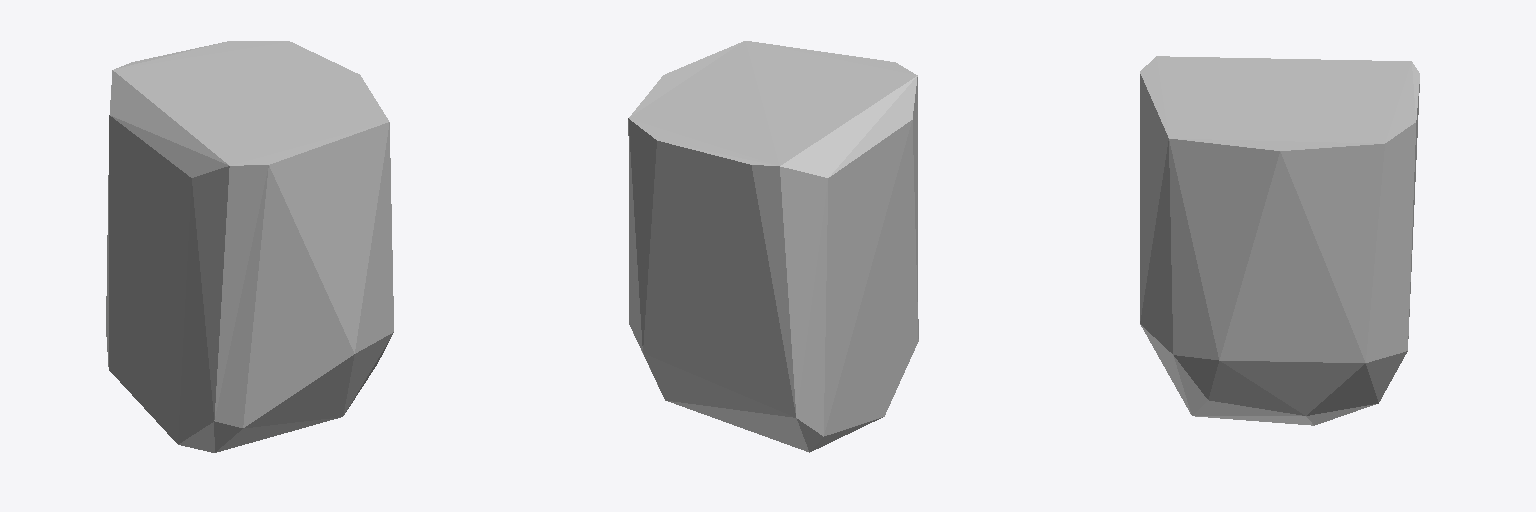
The model's file is white_tip.obj.
3 views of the same model, side by side, from view 1: azimuth 30°, elevation 25°; view 2: azimuth 150°, elevation 25°; view 3: azimuth 270°, elevation 25° (orthographic).
Size of the model in its own units: 0.0208 by 0.0299 by 0.0243.